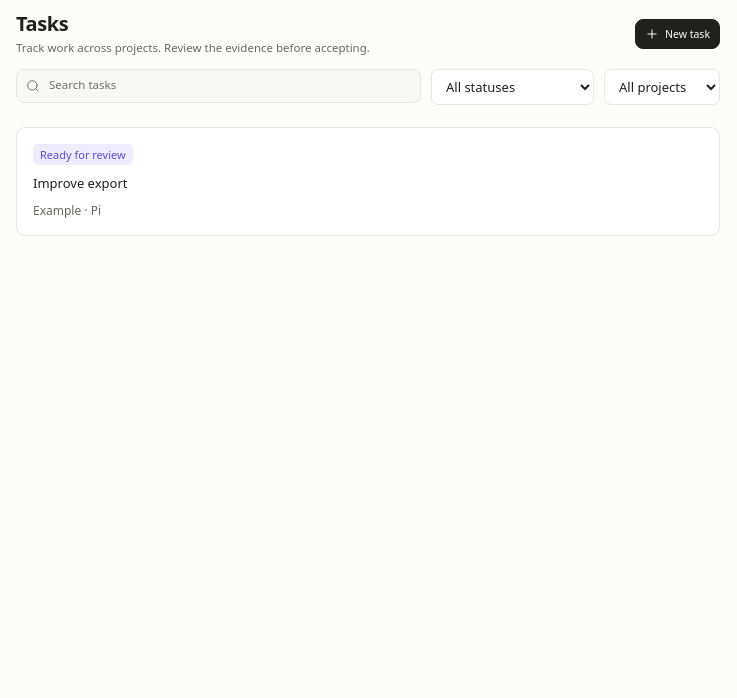
Test: task workflow UI › preserves the task and prevents acceptance when evidence cannot be loaded
Step 1. Click the button "Ready for review Improve export Example · Pi" → click(83, 154), box top-left (16, 127), bottom-right (720, 236)
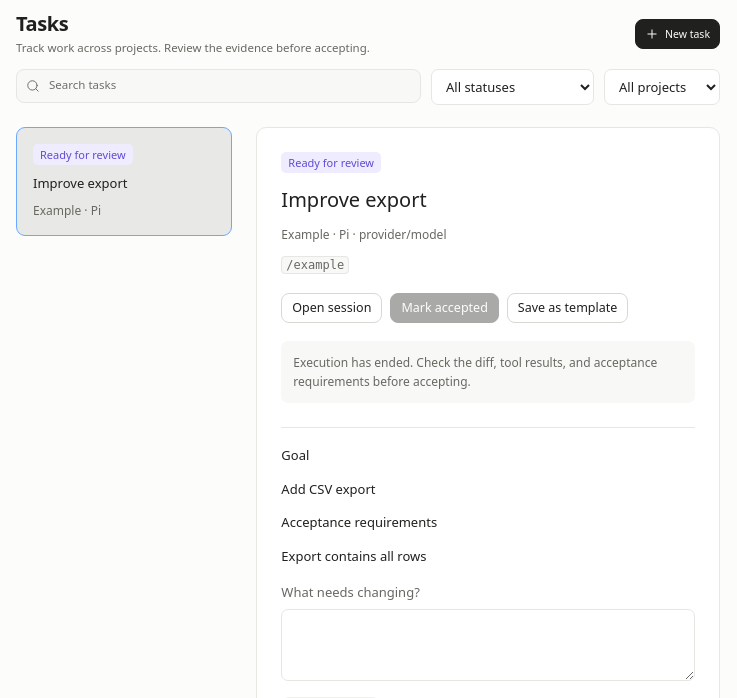
Check: the button "Mark accepted" is disabled, box top-left (390, 293), bottom-right (499, 323)
